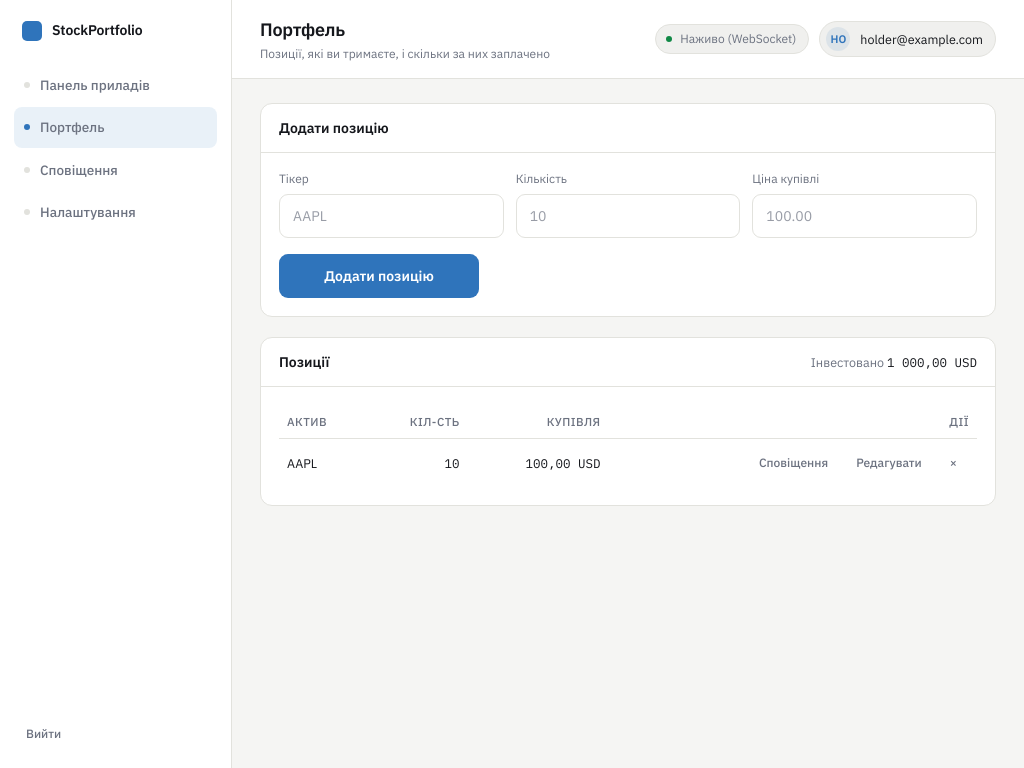
Test: i18n › switchingLanguage_ToUkrainian_TranslatesAValidationMessage
The width and height of the screenshot is (1024, 768).
Check: the table is shown, box [279,405,977,487]
Type "TOOLONG" into the dropdown labelled "Тікер". click: (391, 216)
box: [279,194,504,238]
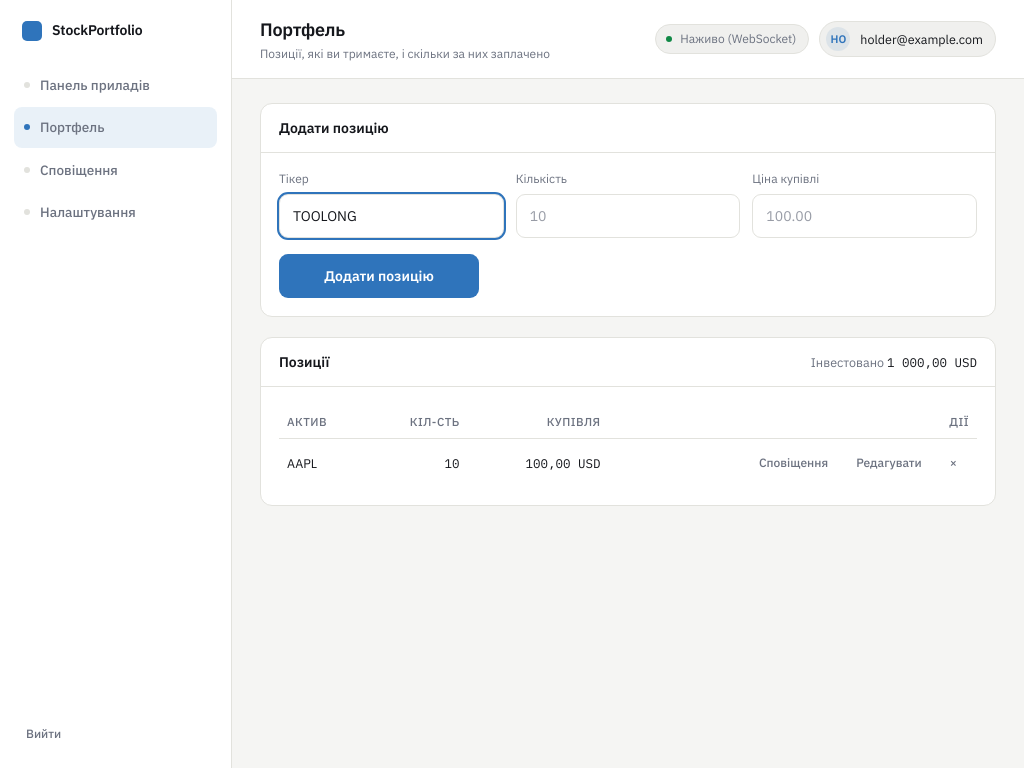
Type "1" into the number field labelled "Кількість". click: (628, 216)
box: [516,194,740,238]
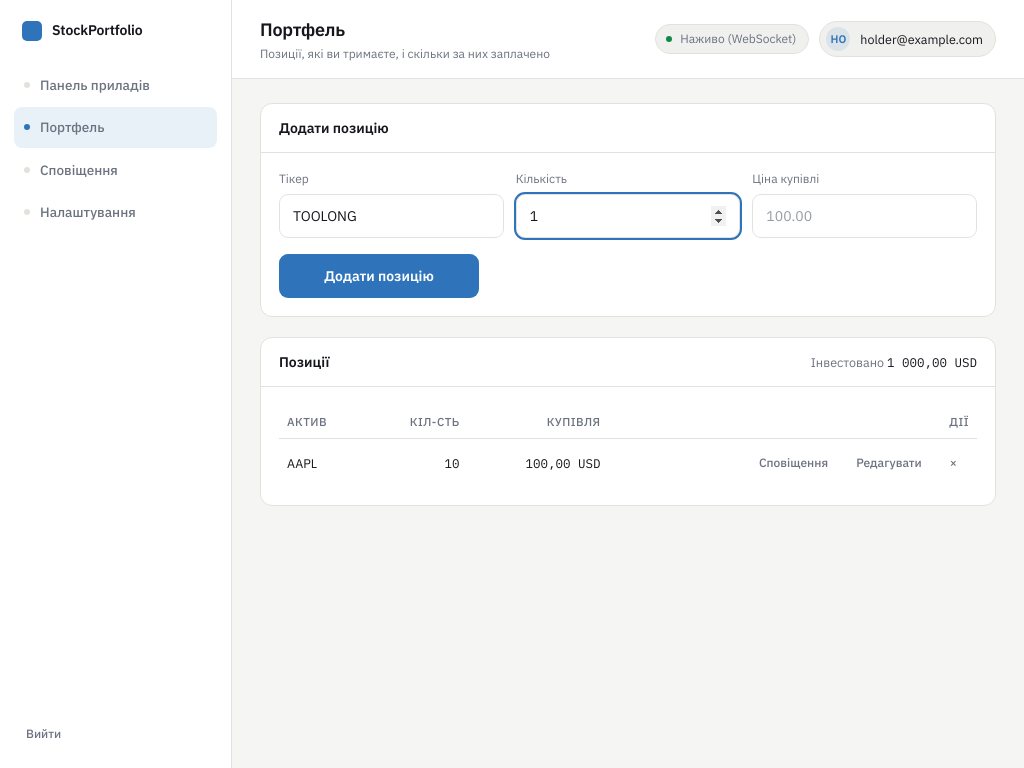
Type "1" into the number field labelled "Ціна купівлі". click: (865, 216)
box: [752,194,977,238]
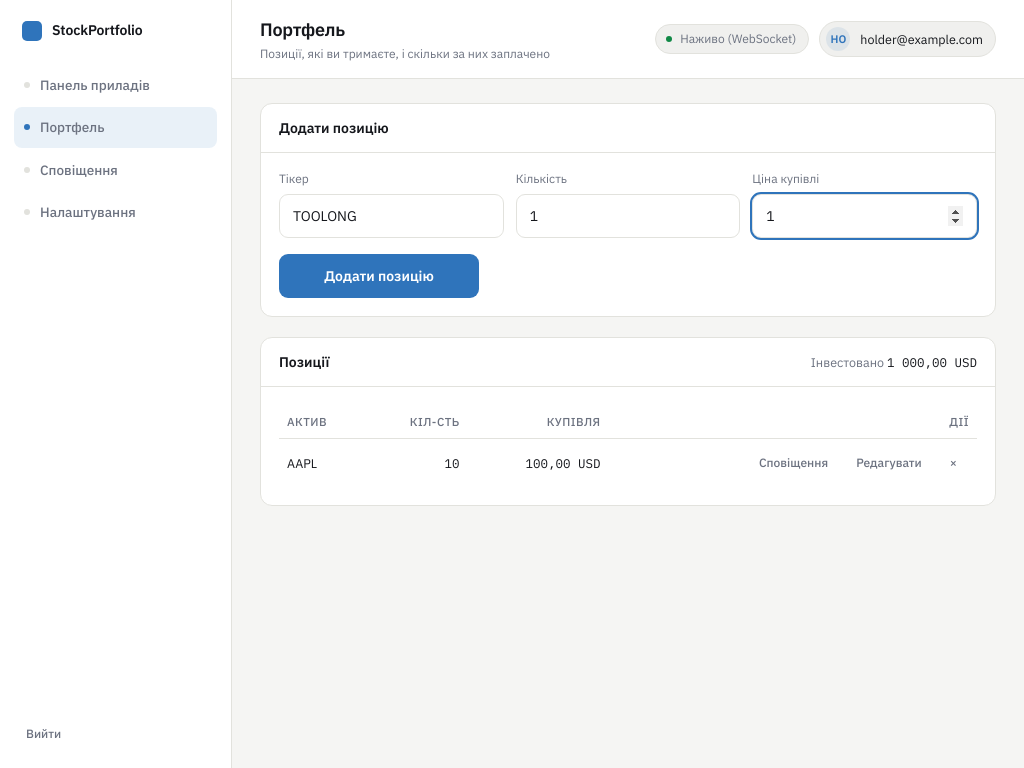
Click the button "Додати позицію". click: (379, 276)
box: [279,254,479,298]
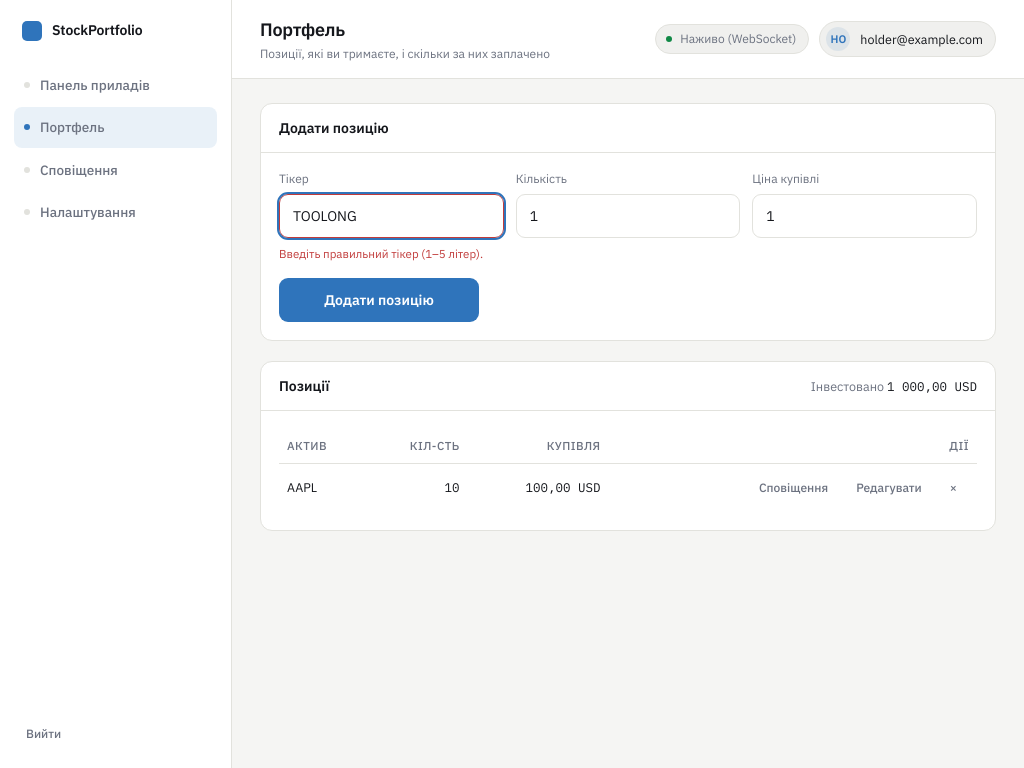
Check: the text "Введіть правильний тікер (1–5 літер)." is shown, box [279,245,504,262]
